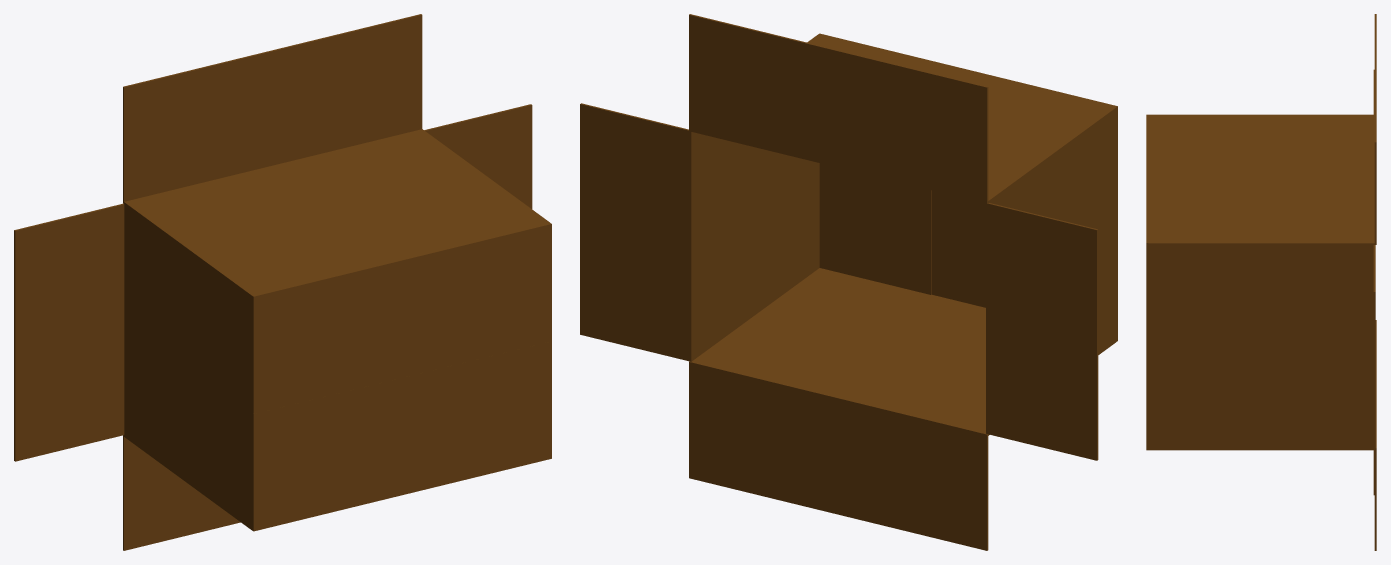
File: carton ouvert.FBX
The picture shows the model from 3 angles, left to right: view 1: azimuth 30°, elevation 25°; view 2: azimuth 150°, elevation 25°; view 3: azimuth 270°, elevation 25°; orthographic projection. The views are drawn at different scales.
Visible parts, largest first — view 1: r-110.cgr|:|3C4086CDAC846DE1A7190DA14B1A41F5EB4C3427|:|356A1; view 2: r-110.cgr|:|3C4086CDAC846DE1A7190DA14B1A41F5EB4C3427|:|356A1; view 3: r-110.cgr|:|3C4086CDAC846DE1A7190DA14B1A41F5EB4C3427|:|356A1.
Part boxes in pixels (x1,y1,x2,y2): r-110.cgr|:|3C4086CDAC846DE1A7190DA14B1A41F5EB4C3427|:|356A1: [14, 14, 551, 550]; r-110.cgr|:|3C4086CDAC846DE1A7190DA14B1A41F5EB4C3427|:|356A1: [580, 14, 1117, 550]; r-110.cgr|:|3C4086CDAC846DE1A7190DA14B1A41F5EB4C3427|:|356A1: [1146, 14, 1376, 550].
Bounding box in the file's own units: 1063 × 910 × 465.
